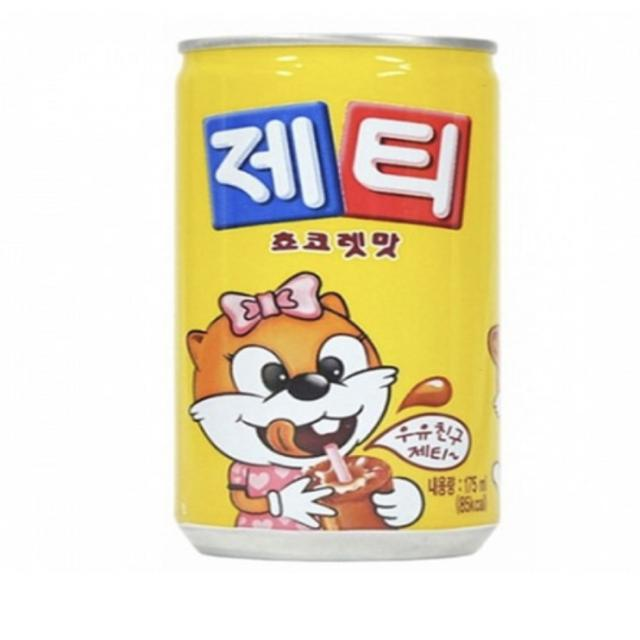recyclable: (155, 22, 522, 574)
